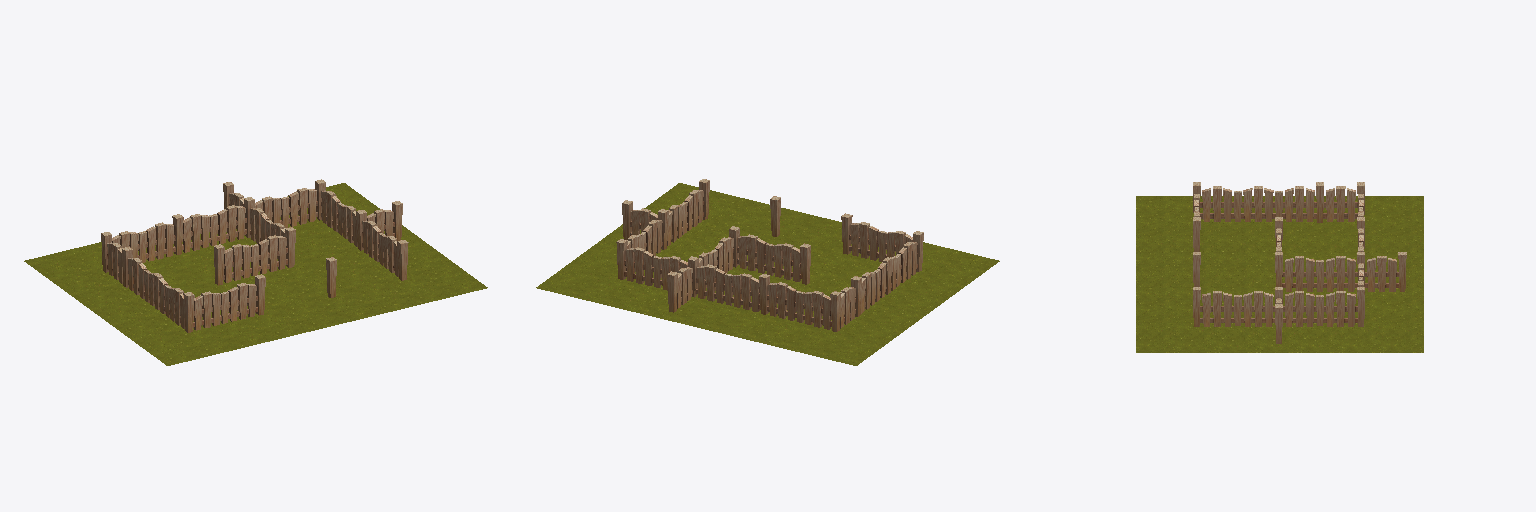
3 renders of one model, left to right at view 1: azimuth 30°, elevation 25°; view 2: azimuth 150°, elevation 25°; view 3: azimuth 270°, elevation 25°, orthographic.
Visible parts, largest first — view 1: cell024, Box050, Box053, Box048, Box049, fence2_corner4, Box044, Box037, fence2_middle, fence2_corner3, Box038, Box052 (+10 smaller); view 2: cell024, Box050, Box053, fence2_middle, Box049, fence2_corner4, Box047, Box048, Box037, fence2_corner3, Box052, Box038 (+9 smaller); view 3: cell024, fence2_middle2, Box046, Box045, Box040, Box039, Box051, fence2_corner4, fence2_corner3, Box038, fence2_end001, Box052 (+3 smaller).
Part boxes in pixels (x1,y1,x2,y2): cell024: (24, 183, 487, 365); Box050: (159, 214, 196, 258); Box053: (237, 236, 273, 279); Box048: (206, 284, 243, 327); Box049: (195, 206, 232, 249); fence2_corner4: (231, 195, 268, 243); Box044: (176, 290, 207, 332); Box037: (266, 189, 303, 227); fence2_middle: (124, 223, 161, 262); fence2_corner3: (349, 207, 380, 256); Box038: (302, 179, 331, 226); Box052: (272, 225, 295, 270); cell024: (536, 183, 999, 365); Box050: (745, 274, 782, 317); Box053: (751, 236, 788, 279); fence2_middle: (781, 283, 818, 326); Box049: (710, 266, 747, 309); fence2_corner4: (674, 254, 712, 302); Box047: (817, 289, 848, 331); Box048: (863, 223, 901, 261); Box037: (638, 248, 675, 290); fence2_corner3: (644, 207, 675, 255); Box052: (722, 226, 753, 272); Box038: (616, 237, 640, 283); cell024: (1136, 196, 1423, 352); fence2_middle2: (1300, 182, 1340, 222); Box046: (1258, 186, 1299, 221); Box045: (1217, 186, 1257, 221); Box040: (1217, 291, 1257, 326); Box039: (1300, 291, 1340, 326); Box051: (1300, 256, 1340, 291); fence2_corner4: (1341, 249, 1381, 291); fence2_corner3: (1258, 287, 1299, 326); Box038: (1341, 283, 1364, 326); fence2_end001: (1382, 252, 1406, 291); Box052: (1275, 249, 1299, 291).
Size of the model in its own units: 450 by 50.83 by 350.
2 materials, 2 textured.